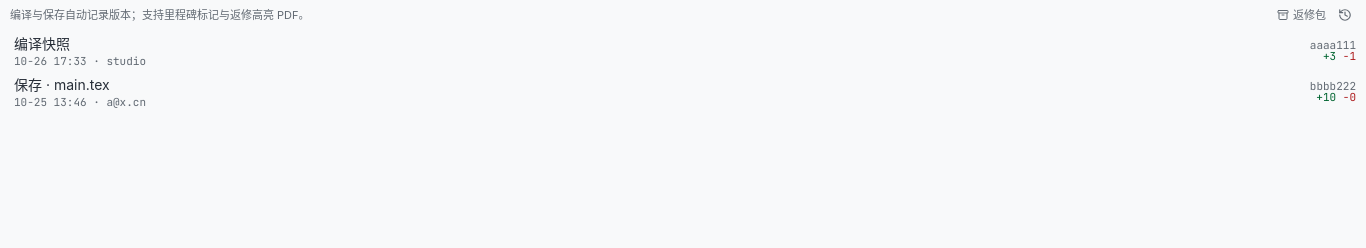
Test: LatexHistory › 只读访问禁用恢复按钮；加载失败展示错误
Click the option "编译快照 10-26 17:33 · studio aaaa111 +3 −1": (42, 44) x1=4 y1=30 x2=1362 y2=71
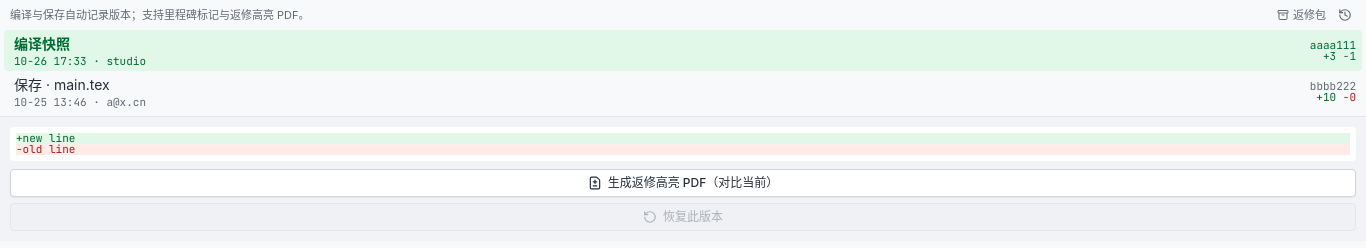
Expected: the button with test id "latex-history-restore" is disabled, x1=10 y1=203 x2=1356 y2=231
Click the button with test id "latex-history-refresh": (1345, 15) x1=1334 y1=4 x2=1356 y2=26
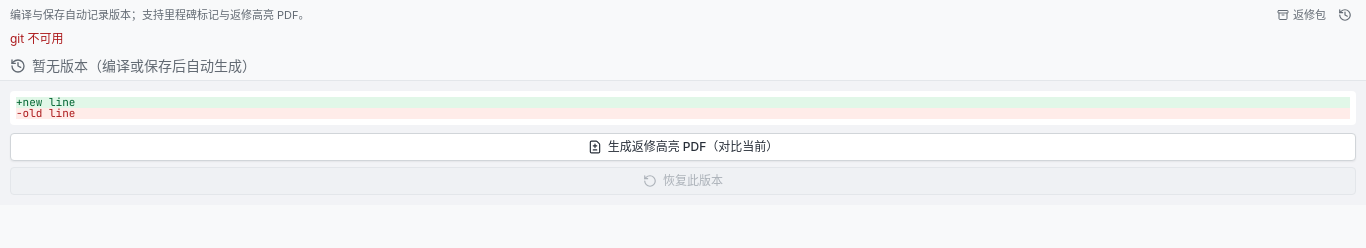
Expected: the message "git 不可用" is shown, x1=10 y1=31 x2=64 y2=46
